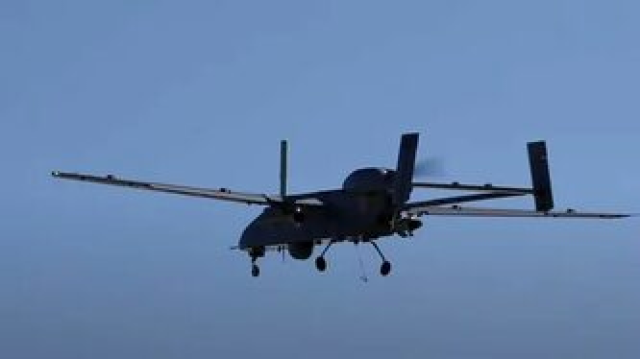military drone: (50, 131, 640, 277)
